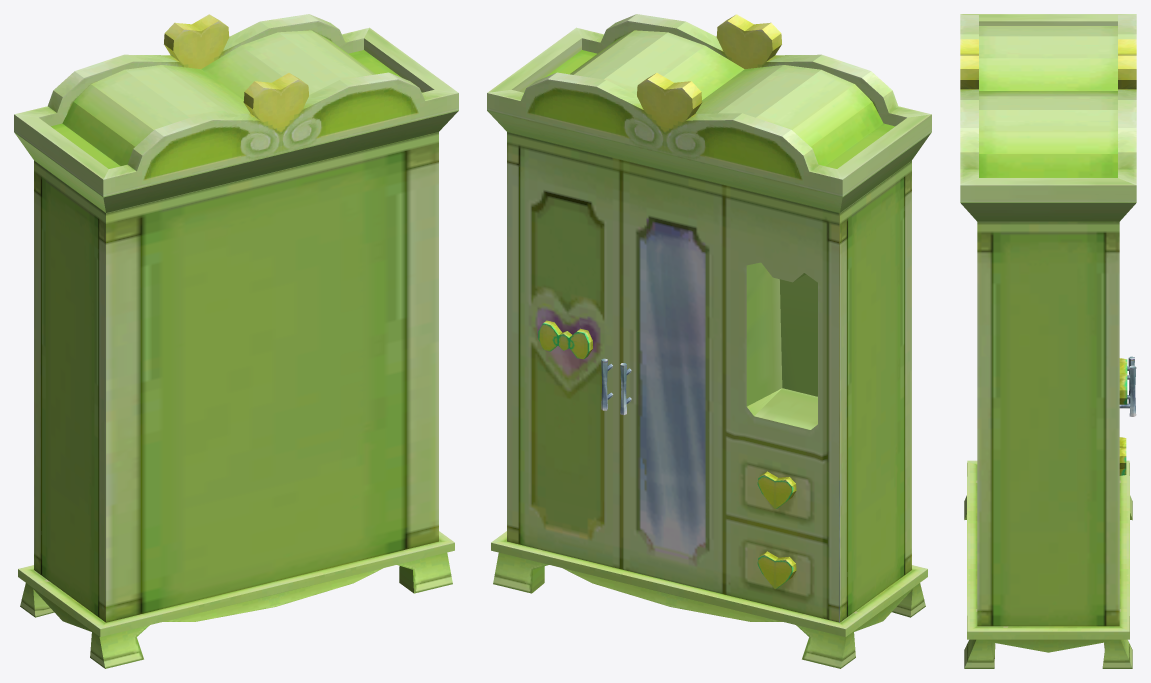
The model's file is furni_0200023-1.FBX.
The picture shows the model from 3 angles, left to right: view 1: azimuth 30°, elevation 25°; view 2: azimuth 150°, elevation 25°; view 3: azimuth 270°, elevation 25°; orthographic projection.
Parts seen in each view (by area): view 1: furni_0200023-1; view 2: furni_0200023-1; view 3: furni_0200023-1.
Boxes of the visible parts, x1,y1,x2,y2 form: furni_0200023-1: (14,14,458,668); furni_0200023-1: (487,14,931,668); furni_0200023-1: (960,14,1136,668).
Size of the model in its own units: 171 by 250 by 74.27.
1 material, 1 textured.
